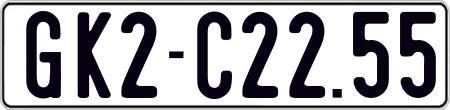2: (286, 12, 327, 98), (121, 9, 157, 101), (241, 9, 278, 96)
5: (351, 10, 390, 99), (398, 9, 435, 95)
C: (196, 12, 235, 100)
G: (24, 9, 65, 99)
K: (77, 9, 110, 96)
